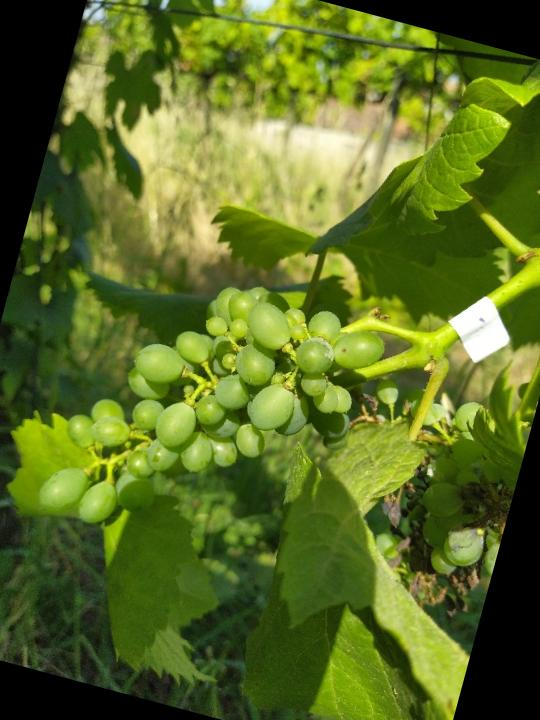grape: (27, 238, 420, 599)
